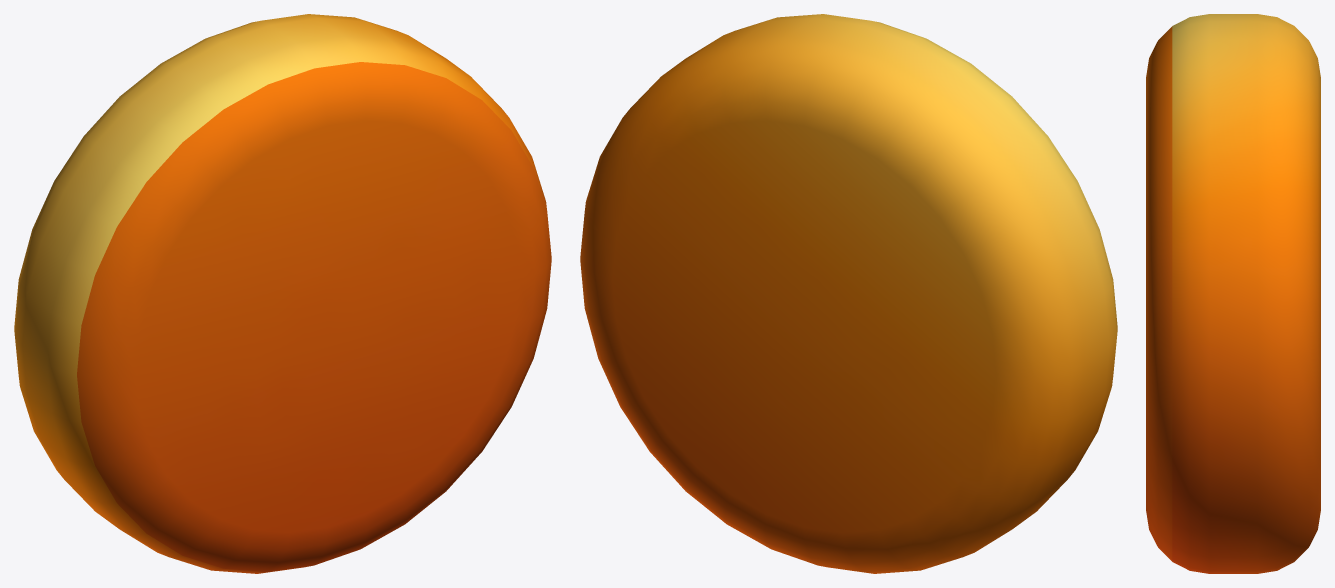
File: Button.fbx
The picture shows the model from 3 angles, left to right: view 1: azimuth 30°, elevation 25°; view 2: azimuth 150°, elevation 25°; view 3: azimuth 270°, elevation 25°; orthographic projection. The views are drawn at different scales.
Parts seen in each view (by area): view 1: Bost-Button; view 2: Bost-Button; view 3: Bost-Button.
Part boxes in pixels (x1,y1,x2,y2): Bost-Button: (14,14,551,573); Bost-Button: (580,14,1117,573); Bost-Button: (1146,14,1320,573).
Bounding box in the file's own units: 92.2 × 92.2 × 28.78.
1 material, 1 textured.
